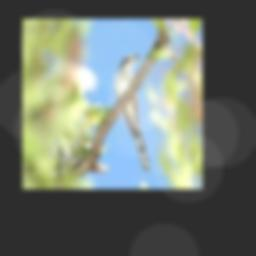Cuckoo: (115, 55, 149, 171)
